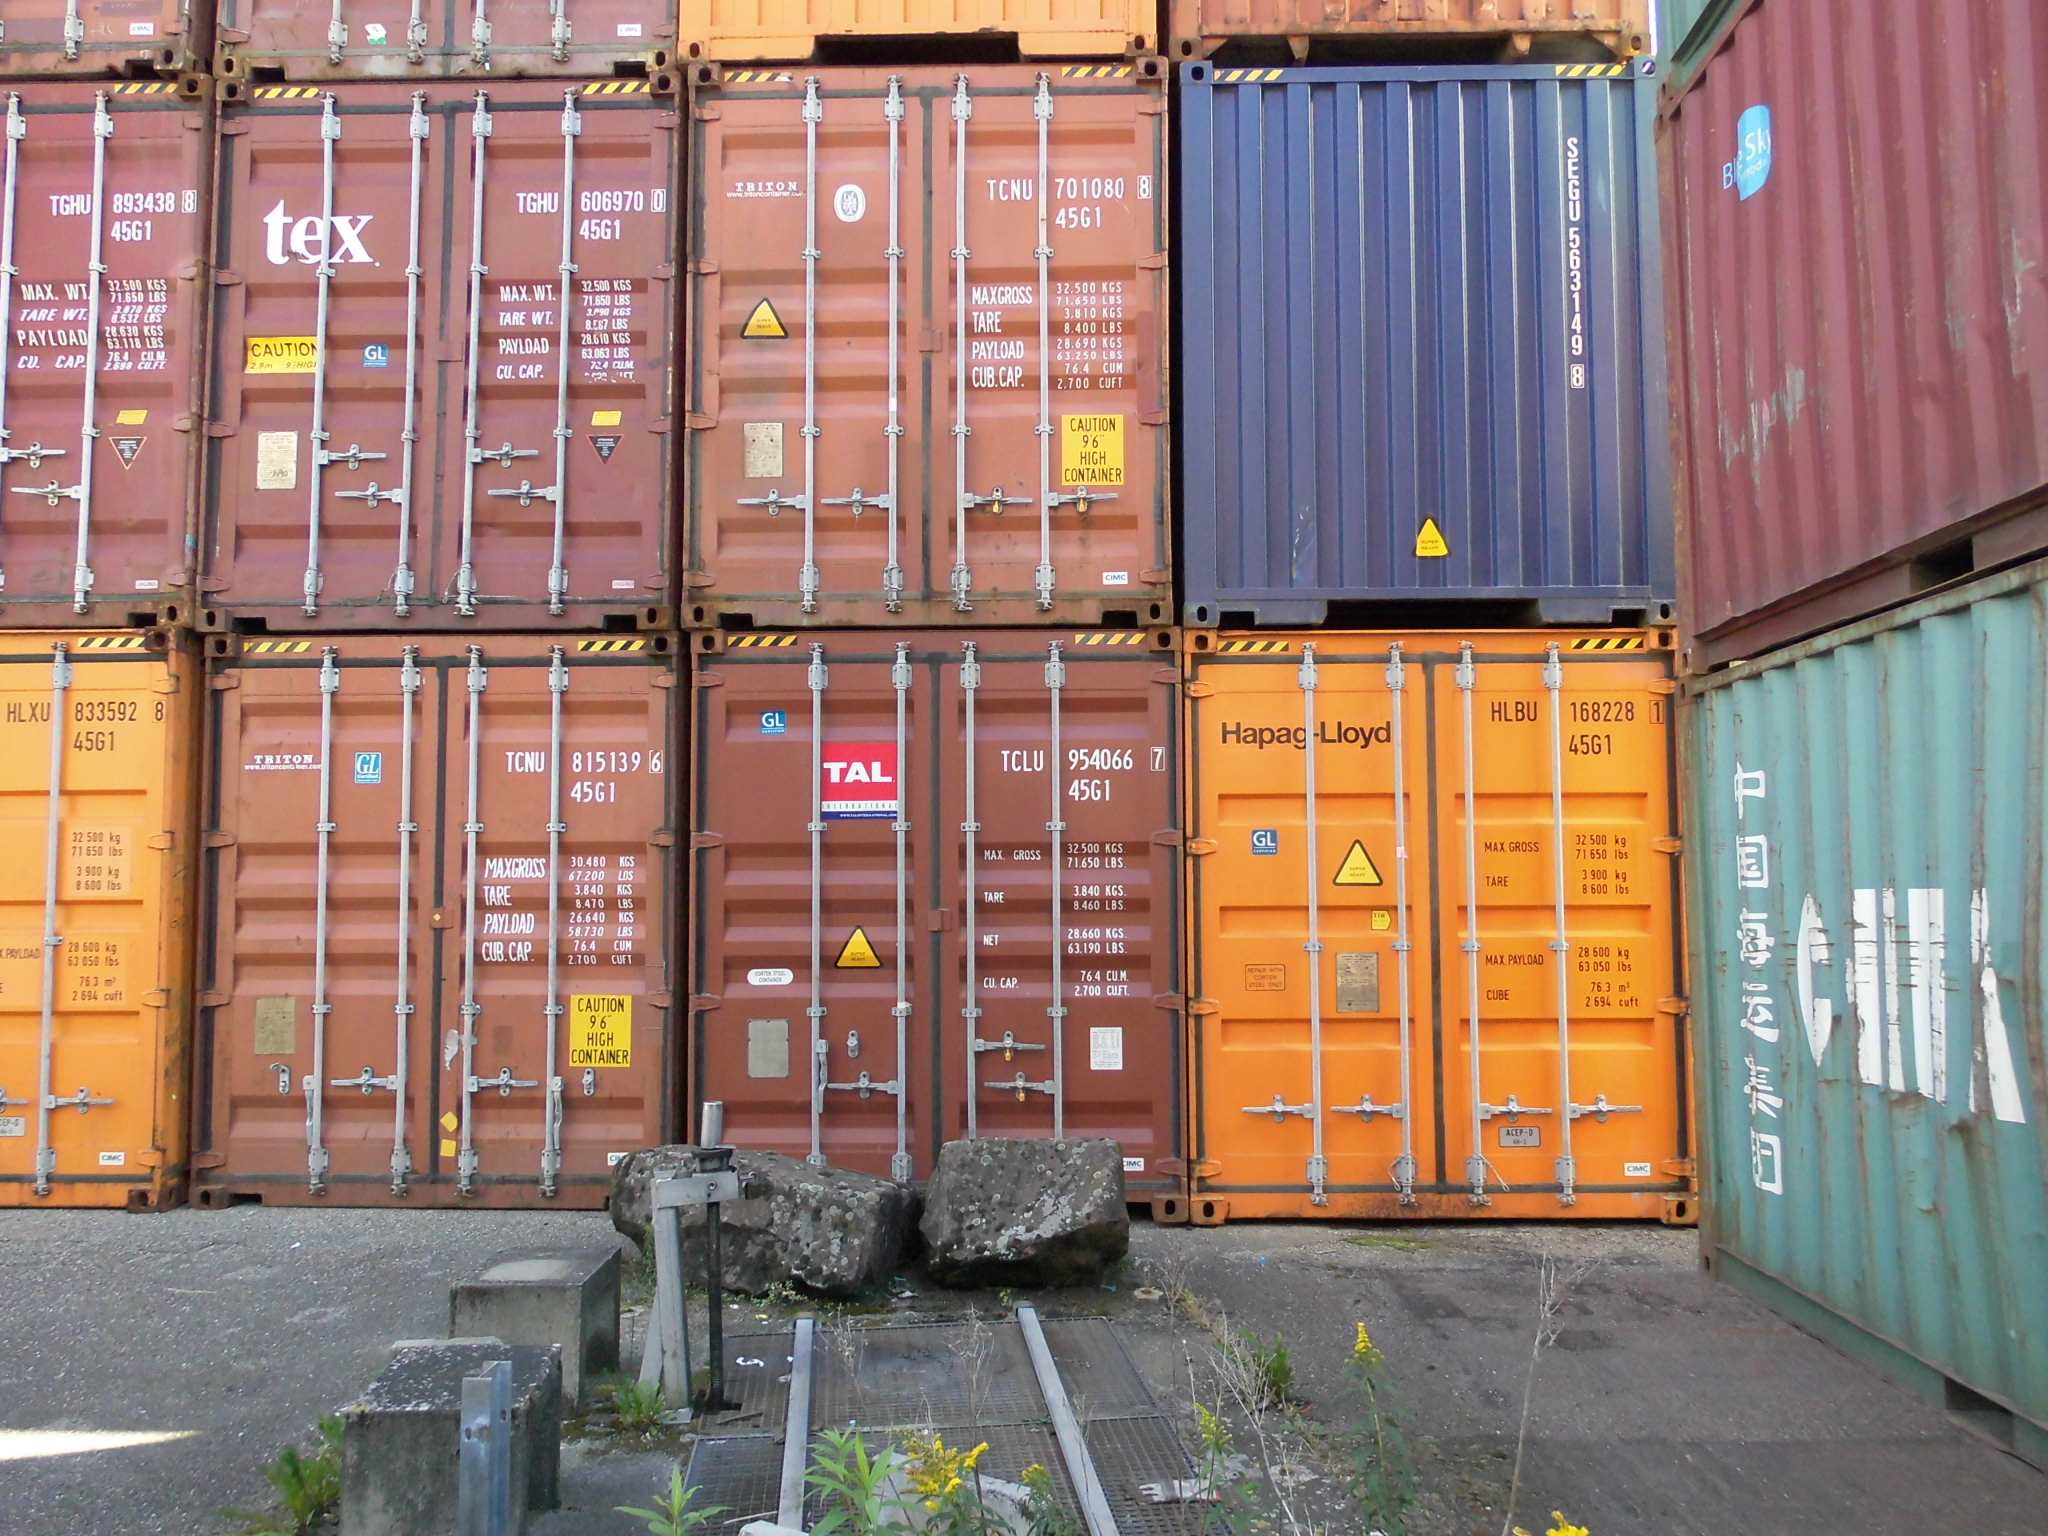container_door: (1185, 629, 1698, 1226), (698, 81, 1176, 628), (685, 637, 1163, 1184), (210, 647, 655, 1200), (227, 105, 653, 620)
container_no_door: (1193, 68, 1675, 637)
